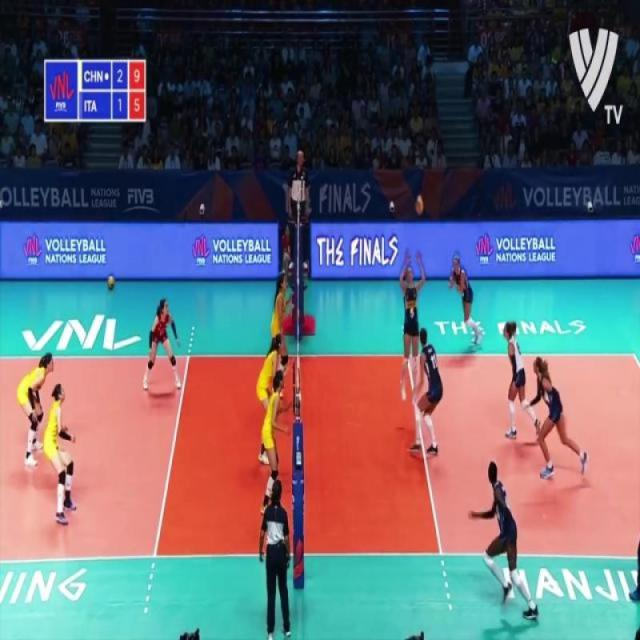volleyball: (415, 195, 424, 215), (108, 274, 115, 290)
